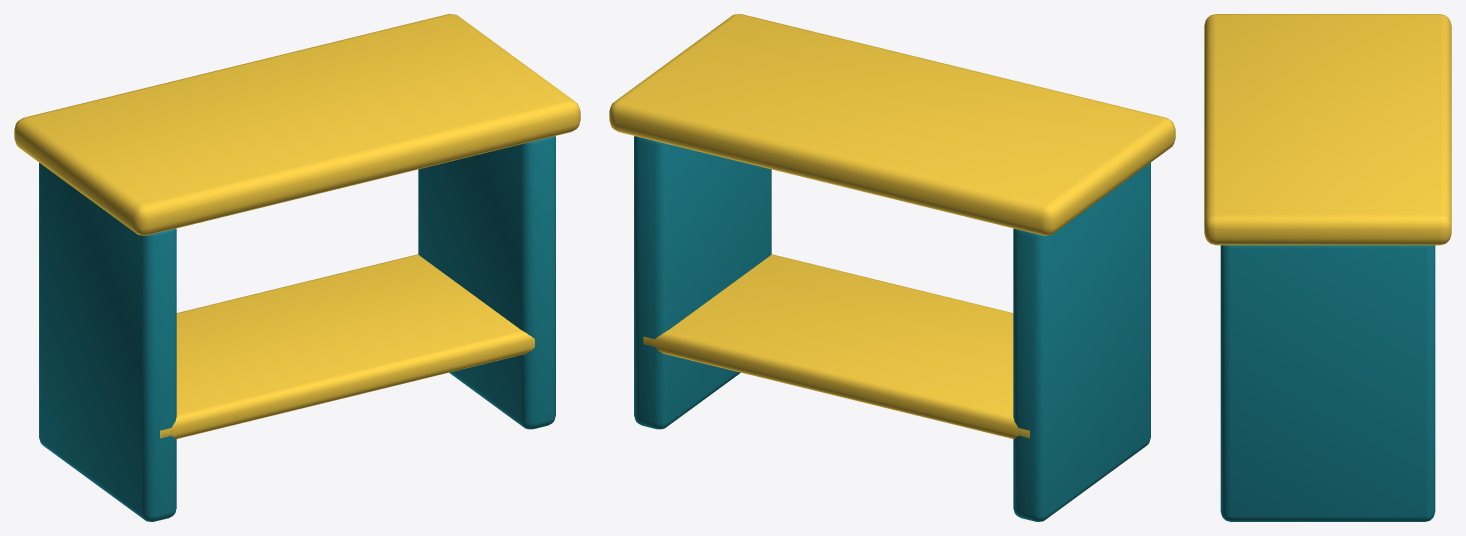
File: banco_prateleira_baixa_moderna_coral.glb
The picture shows the model from 3 angles, left to right: view 1: azimuth 30°, elevation 25°; view 2: azimuth 150°, elevation 25°; view 3: azimuth 270°, elevation 25°; orthographic projection. The views are drawn at different scales.
Parts seen in each view (by area): view 1: banco_prateleira_baixa_moderna_coral; view 2: banco_prateleira_baixa_moderna_coral; view 3: banco_prateleira_baixa_moderna_coral.
Part boxes in pixels (x1=…): banco_prateleira_baixa_moderna_coral: x1=14, y1=14, x2=580, y2=521; banco_prateleira_baixa_moderna_coral: x1=609, y1=14, x2=1175, y2=521; banco_prateleira_baixa_moderna_coral: x1=1204, y1=14, x2=1451, y2=521.
Size of the model in its own units: 0.6 by 0.42 by 0.3.
Materials: 1 (1 with a texture image).
